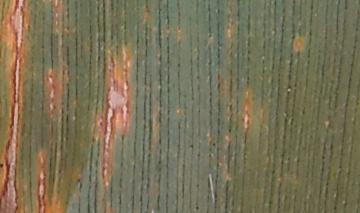tarspot: (300, 105, 307, 116), (194, 204, 200, 212), (187, 143, 194, 149), (65, 25, 71, 32), (207, 32, 213, 39), (98, 120, 104, 126), (227, 127, 232, 133), (176, 62, 181, 68), (76, 177, 81, 183), (1, 162, 5, 169), (211, 142, 216, 146)
